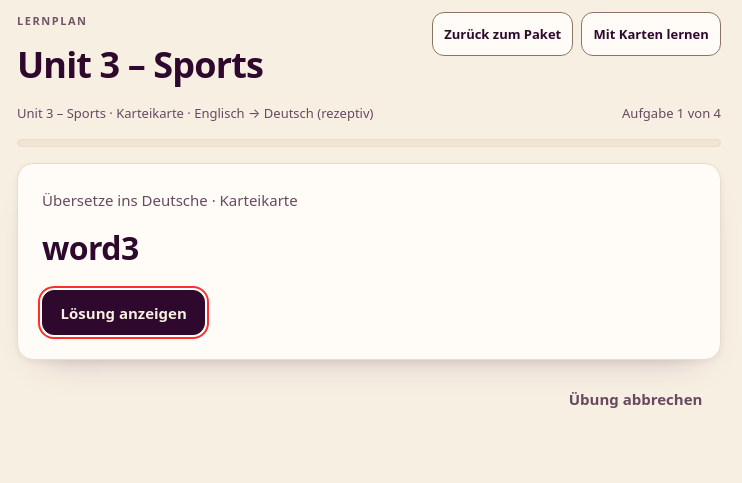
Test: SessionPage – Antwort dauerhaft speichern › schreibt bei mehrfachem Auslösen nur einmal
Expected: the text "Aufgabe 1 von 4" is shown, [622,103,721,123]
Click the button "Lösung anzeigen".
click(124, 313)  # box [42,290,205,335]
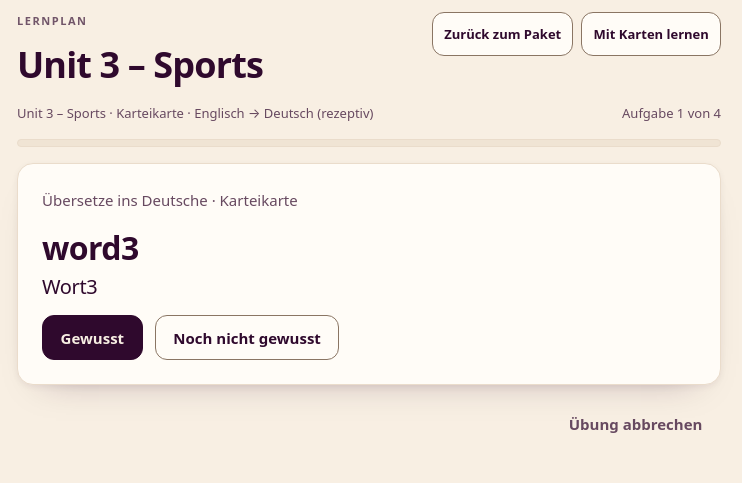
Click the button "Gewusst".
click(92, 338)  # box [42,315,143,360]
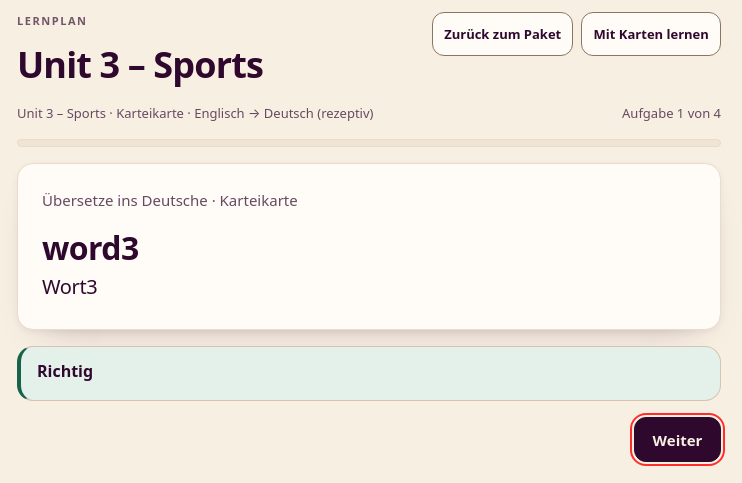
Result: the button "Weiter" is enabled at [634,417,721,462]
